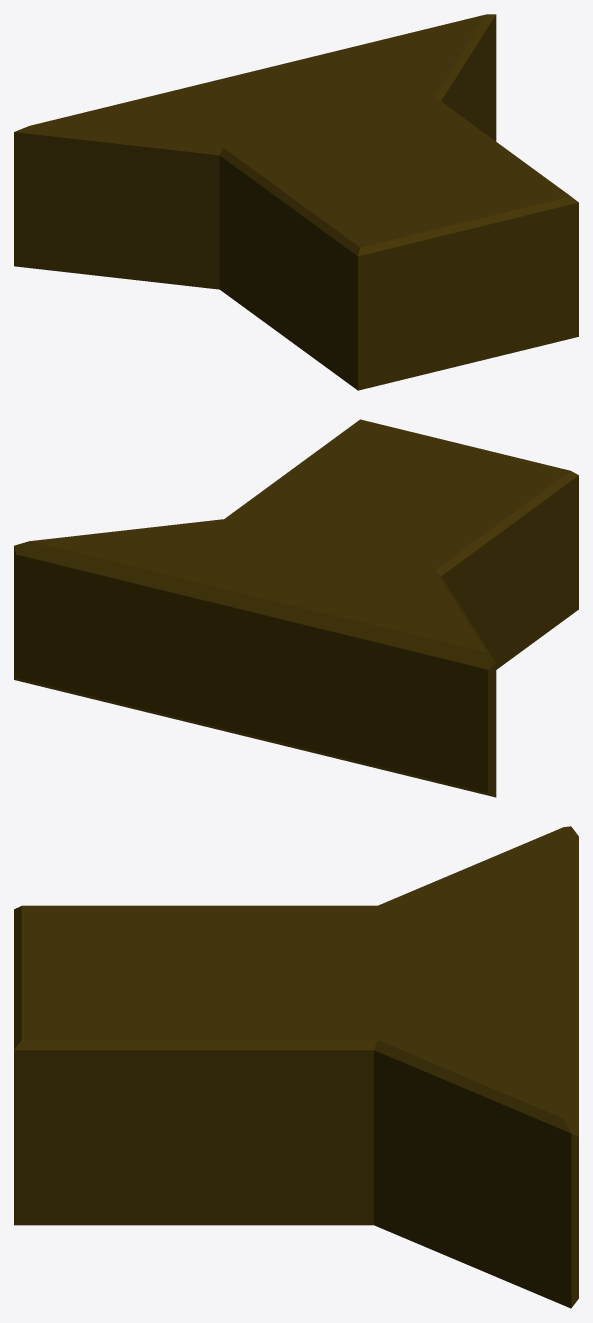
File: 4thCenterTab.fbx
3 views of the same model, one above another, from view 1: azimuth 30°, elevation 25°; view 2: azimuth 150°, elevation 25°; view 3: azimuth 270°, elevation 25° (orthographic). The views are drawn at different scales.
Visible parts, largest first — view 1: Empty_Mesh; view 2: Empty_Mesh; view 3: Empty_Mesh.
Boxes of the visible parts, x1,y1,x2,y2 form: Empty_Mesh: (14,14,578,390); Empty_Mesh: (14,419,578,797); Empty_Mesh: (14,826,578,1308).
Size of the model in its own units: 4.77 by 1.32 by 3.71.
